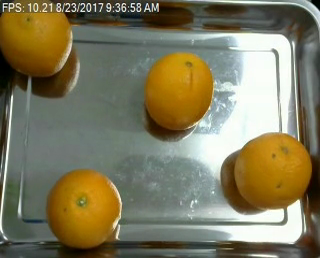Orange: (47, 168, 123, 249), (235, 132, 311, 209), (145, 51, 212, 131), (0, 12, 71, 79)
